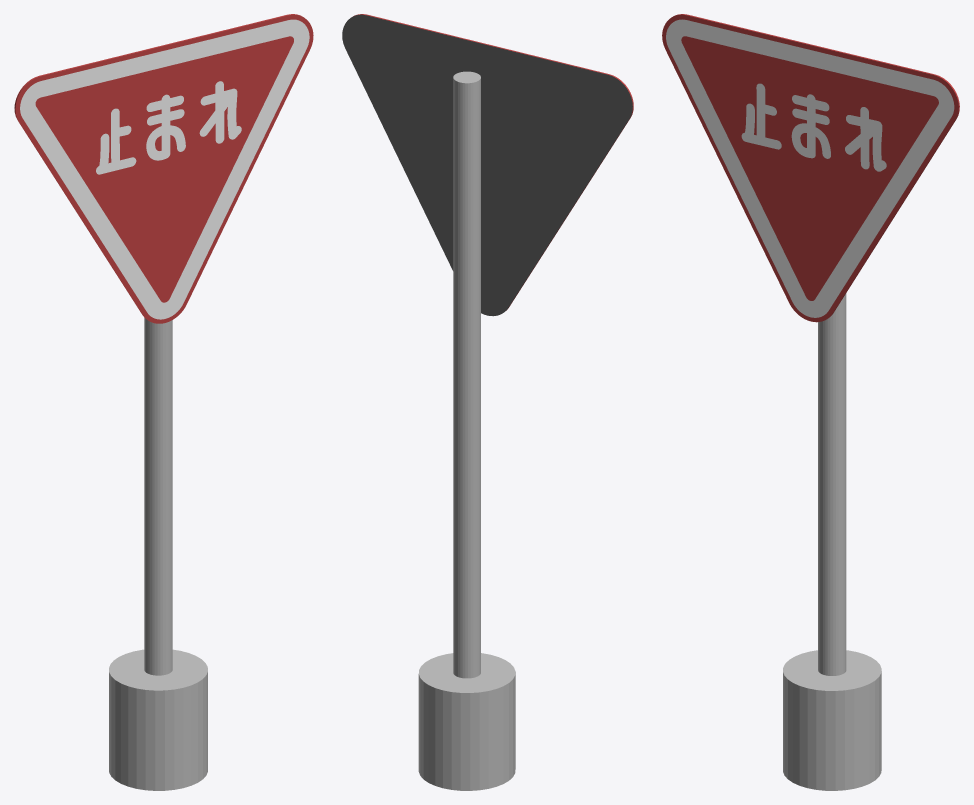
Rendered from StopSign.fbx.
The picture shows the model from 3 angles, left to right: view 1: azimuth 30°, elevation 25°; view 2: azimuth 150°, elevation 25°; view 3: azimuth 330°, elevation 25°; orthographic projection. The views are drawn at different scales.
Parts seen in each view (by area): view 1: StopSign; view 2: StopSign; view 3: StopSign.
Boxes of the visible parts, x1=… form: StopSign: x1=14, y1=14, x2=313, y2=790; StopSign: x1=342, y1=14, x2=633, y2=790; StopSign: x1=662, y1=14, x2=959, y2=790.
Size of the model in its own units: 0.9387 by 2.22 by 0.2711.
